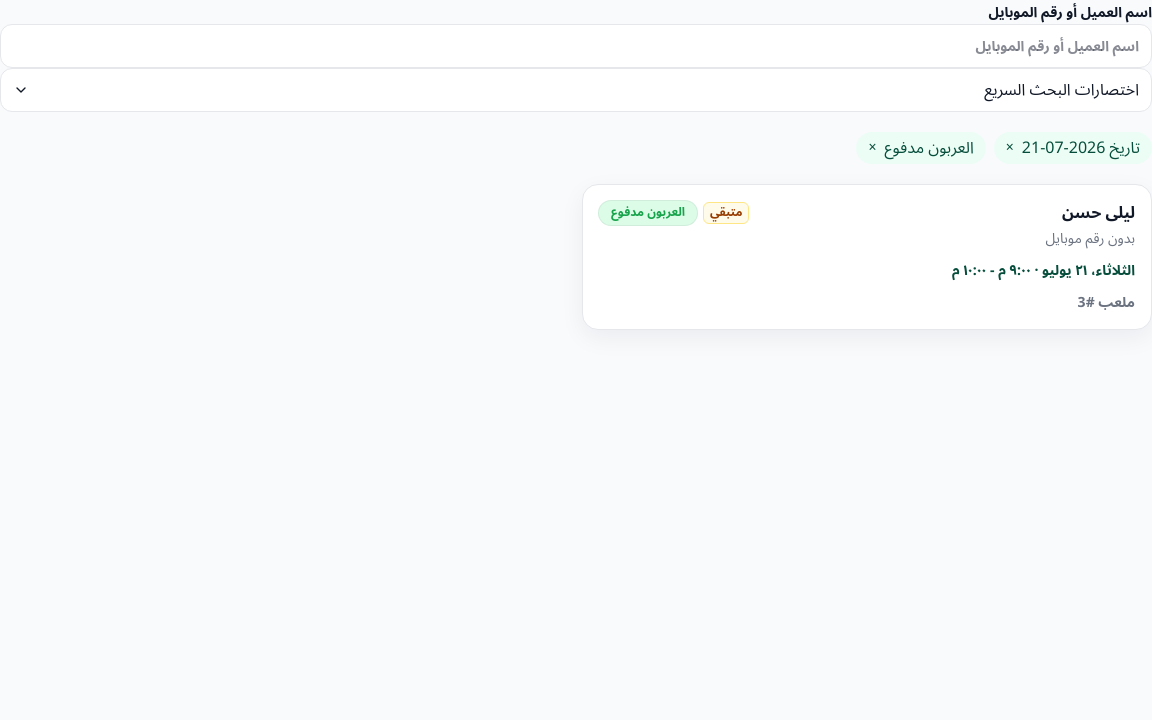
Test case: BookingsListPage › opens the reusable action sheet from a confirmed booking card
The image size is (1152, 720).
Click the button with aria-label "مراجعة حجز ليلى حسن" at (867, 257), box 582,184 -> 1151,330
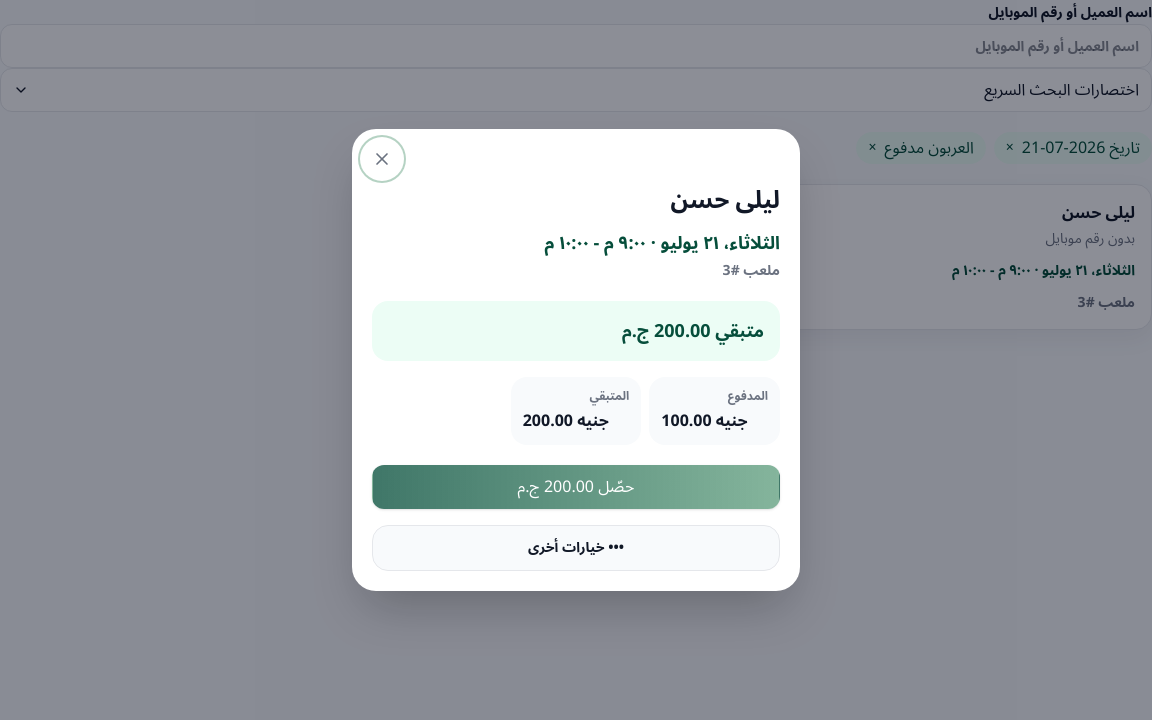
Expected: the dialog is shown, 352,129 -> 800,591
Expected: the text "متبقي 200.00 ج.م" is shown, 622,312 -> 764,350
Click the heading "••• خيارات أخرى" at (576, 548), box 528,533 -> 624,562
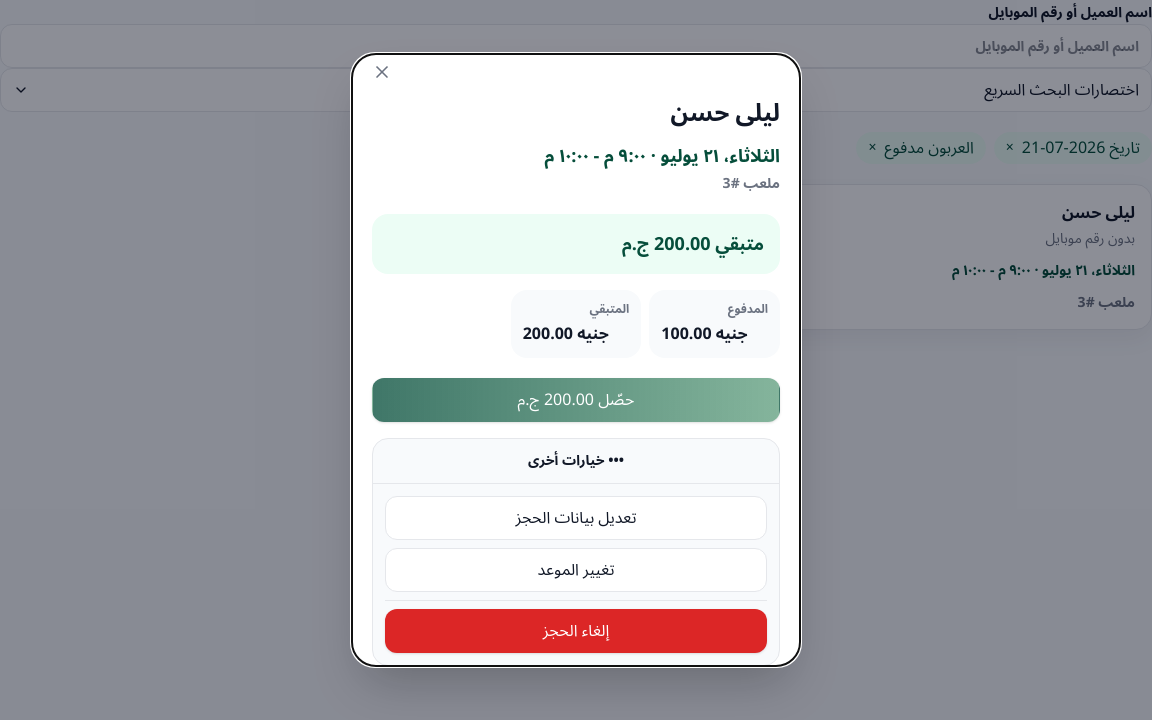
Click the button "إلغاء الحجز" at (576, 631), box 385,609 -> 767,653
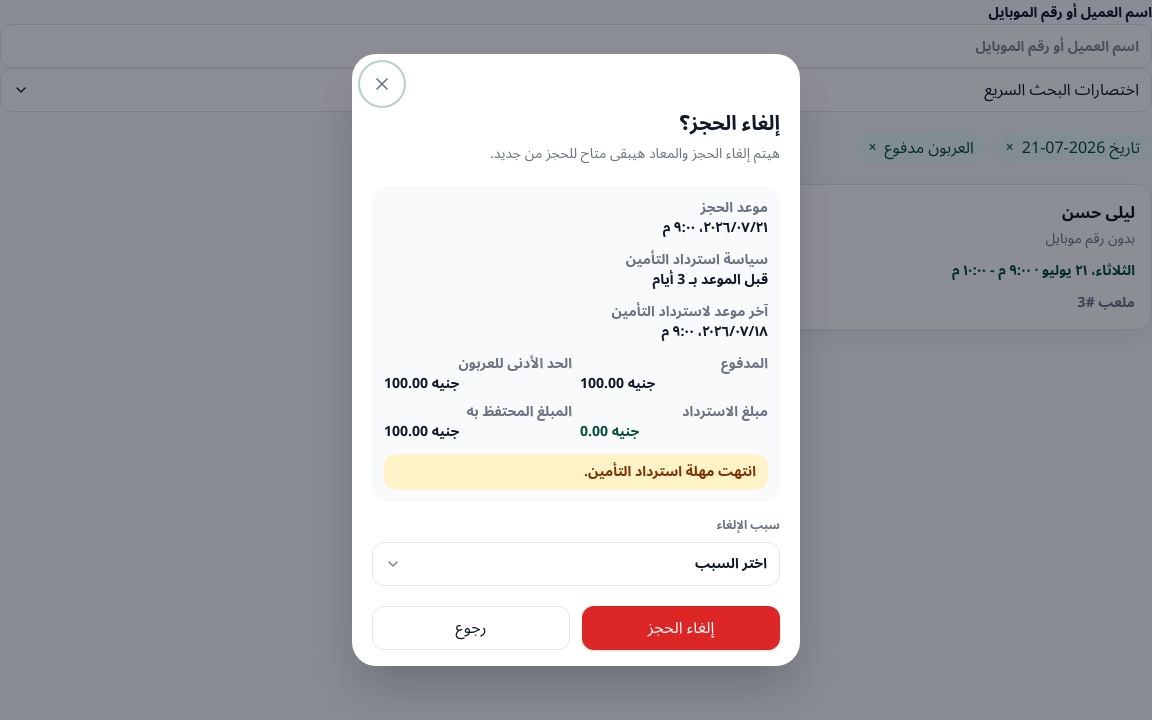
Expected: the heading "إلغاء الحجز؟" is shown, 680,103 -> 780,145
Click the button named "إغلاق" at (382, 84), box 360,62 -> 404,106
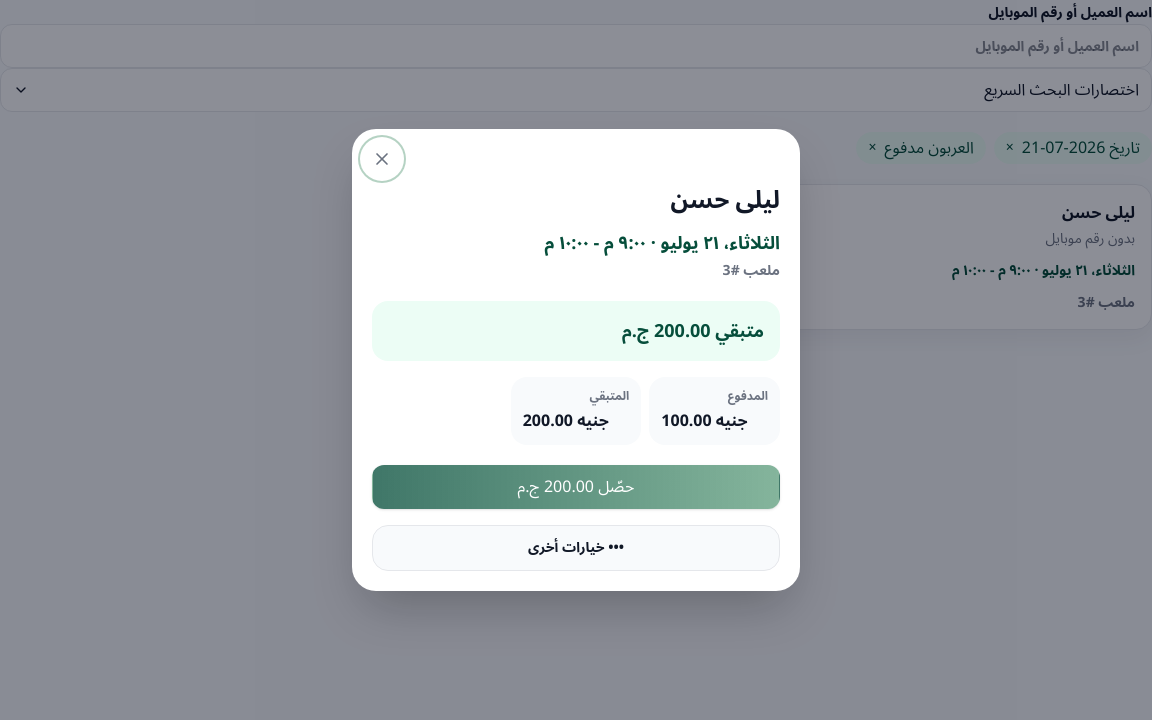
Expected: the number of dialogs is 1, 352,129 -> 800,591
Expected: the heading "ليلى حسن" is shown, 670,175 -> 780,226
